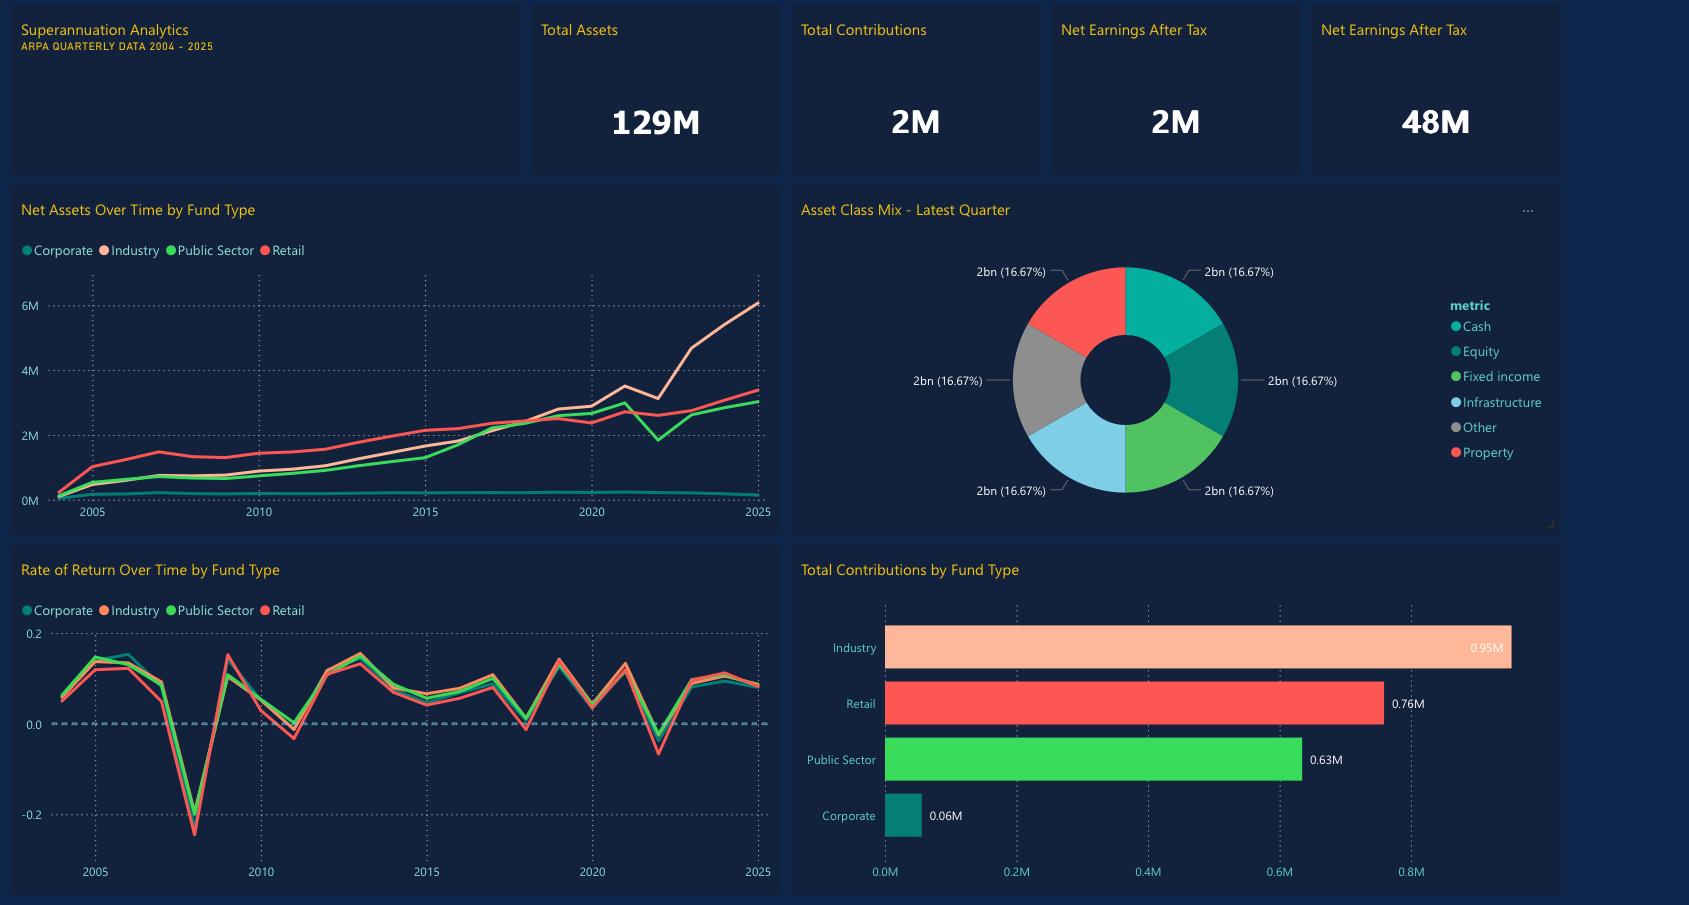

What the dashboard file says about the page in this screenshot:
{"tool":"powerbi","page":{"name":"Performance","canvas":[1280,720],"ordinal":0},"visuals":[{"type":"cardVisual","title":"Total Assets","fields":{"Data":["master_all.Total Value"]},"box":[60,80,254.4,105.6],"z":0},{"type":"cardVisual","title":"Total Contributions","fields":{"Data":["master_all.Total Value"]},"box":[352.2,80,262.2,105.6],"z":1000},{"type":"cardVisual","title":"Net Earnings After Tax","fields":{"Data":["master_all.Total Value"]},"box":[656.7,81.1,272.2,105.6],"z":2000},{"type":"cardVisual","title":"Net Earnings After Tax","fields":{"Data":["master_all.Rolling 4Q Avg"]},"box":[960,81.1,273.3,105.6],"z":3000},{"type":"slicer","title":"Fin Year","fields":{"Values":["master_all.fin_year"]},"box":[854.4,7.8,148.9,61.1],"z":4000},{"type":"slicer","title":"Quarter","fields":{"Values":["master_all.quarter_label"]},"box":[1015.6,7.8,237.8,61.1],"z":5000},{"type":"lineChart","title":"Net Assets Over Time by Fund Type","fields":{"Category":["master_all.date.Variation.Date Hierarchy.Year","master_all.date.Variation.Date Hierarchy.Quarter","master_all.date.Variation.Date Hierarchy.Month","master_all.date.Variation.Date Hierarchy.Day"],"Y":["master_all.Total Value"],"Series":["master_all.fund_type"]},"box":[14.4,193.3,625.6,267.8],"z":6000},{"type":"barChart","title":"Total Contributions by Fund Type","fields":{"Y":["master_all.Total Value"],"Category":["master_all.fund_type"]},"box":[666.7,193.3,585.6,267.8],"z":7000},{"type":"lineChart","fields":{"Y":["master_all.YoY Growth %"],"Category":["master_all.date.Variation.Date Hierarchy.Year"],"Series":["master_all.fund_type"]},"box":[14.4,480,625.6,216.7],"z":8000},{"type":"barChart","title":"Employer VS Member Contributions Split","fields":{"Category":["master_all.fund_type"],"Y":["master_all.Total Value"],"Series":["master_all.metric"]},"box":[666.7,480,585.6,216.7],"z":9000},{"type":"textbox","title":"Performance","box":[14.4,7.8,300,72.2],"z":10000},{"type":"shape","box":[0,68.9,1280,13.3],"z":11000}]}

Visuals, with their boxes on the page's 1280x720 design canvas (x1, y1, x2, y2). These are canvas units, not pixel positions in the 1689x905 screenshot, which may show the page scaled, cropped or inside an application window:
"Total Assets" cardVisual: l=60, t=80, r=314, b=186
"Total Contributions" cardVisual: l=352, t=80, r=614, b=186
"Net Earnings After Tax" cardVisual: l=657, t=81, r=929, b=187
"Net Earnings After Tax" cardVisual: l=960, t=81, r=1233, b=187
"Fin Year" slicer: l=854, t=8, r=1003, b=69
"Quarter" slicer: l=1016, t=8, r=1253, b=69
"Net Assets Over Time by Fund Type" lineChart: l=14, t=193, r=640, b=461
"Total Contributions by Fund Type" barChart: l=667, t=193, r=1252, b=461
lineChart - master_all.YoY Growth % x master_all.date.Variation.Date Hierarchy.Year: l=14, t=480, r=640, b=697
"Employer VS Member Contributions Split" barChart: l=667, t=480, r=1252, b=697
"Performance" textbox: l=14, t=8, r=314, b=80
shape: l=0, t=69, r=1280, b=82
